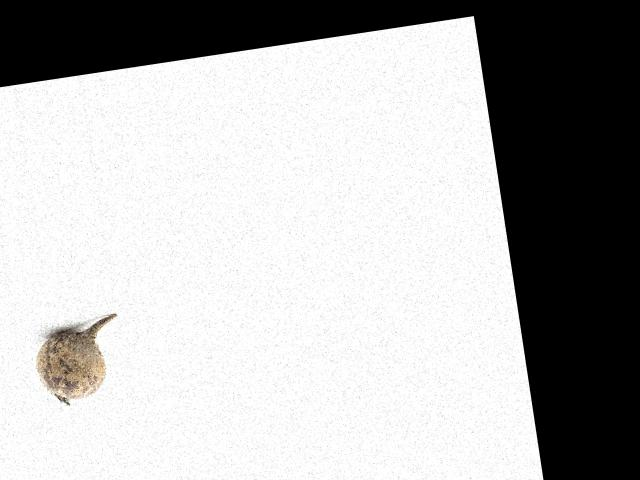beet: (29, 313, 128, 409)
